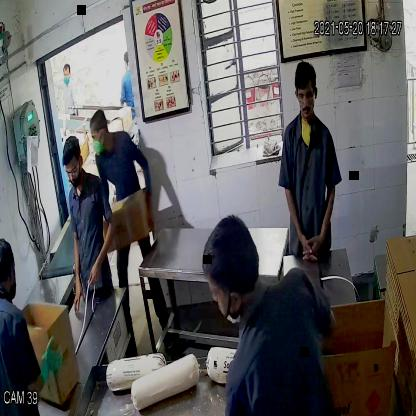goggles: (292, 88, 322, 106), (63, 163, 81, 180)
